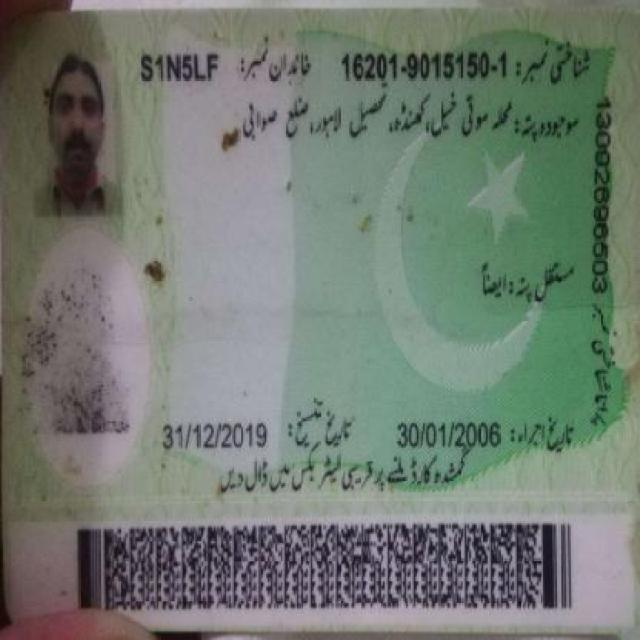Back: (6, 16, 629, 622)
